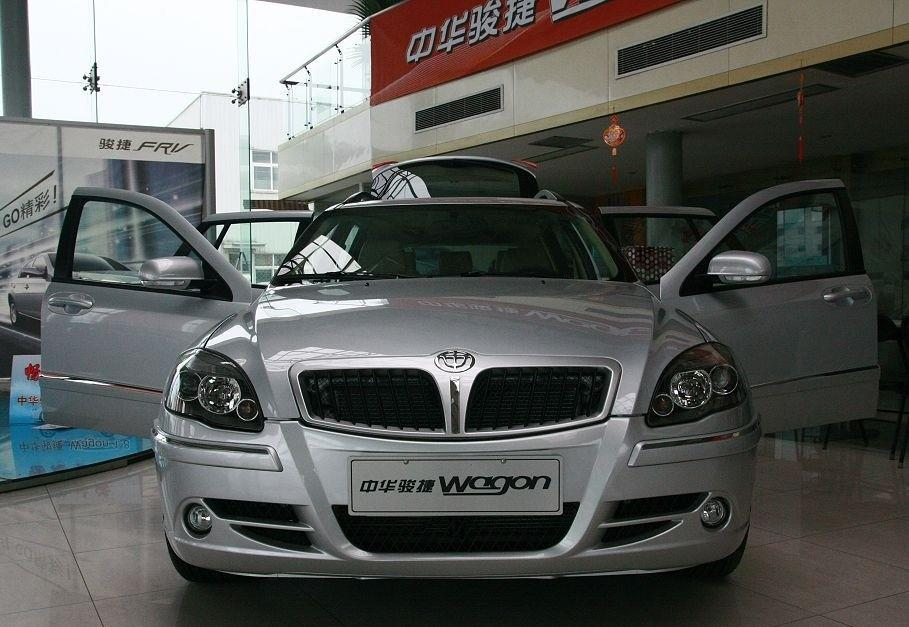Wagon: (38, 155, 881, 584)
